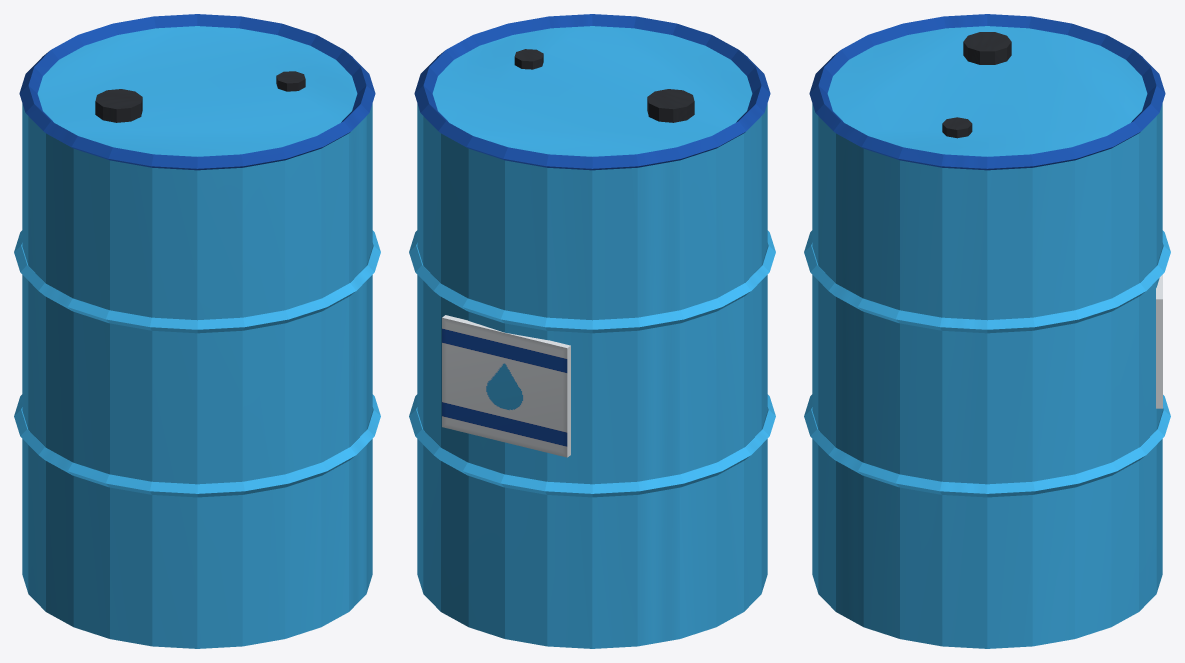
File: SW_ChemDrum.glb
3 views of the same model, side by side, from view 1: azimuth 30°, elevation 25°; view 2: azimuth 150°, elevation 25°; view 3: azimuth 270°, elevation 25° (orthographic).
Parts seen in each view (by area): view 1: Drum; view 2: Drum; view 3: Drum.
Part boxes in pixels (x1,y1,x2,y2): Drum: [14, 14, 380, 648]; Drum: [409, 14, 775, 648]; Drum: [804, 14, 1170, 648].
Bounding box in the file's own units: 0.608 × 0.905 × 0.608.
1 material, 1 textured.
